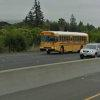Bus: (33, 23, 86, 56)
